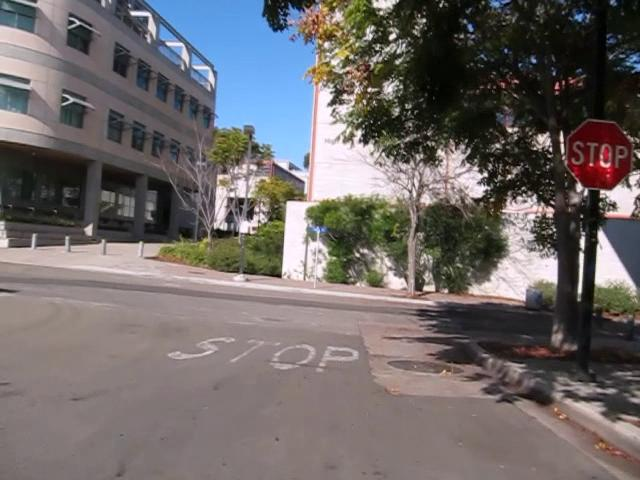stop: (564, 118, 633, 191)
